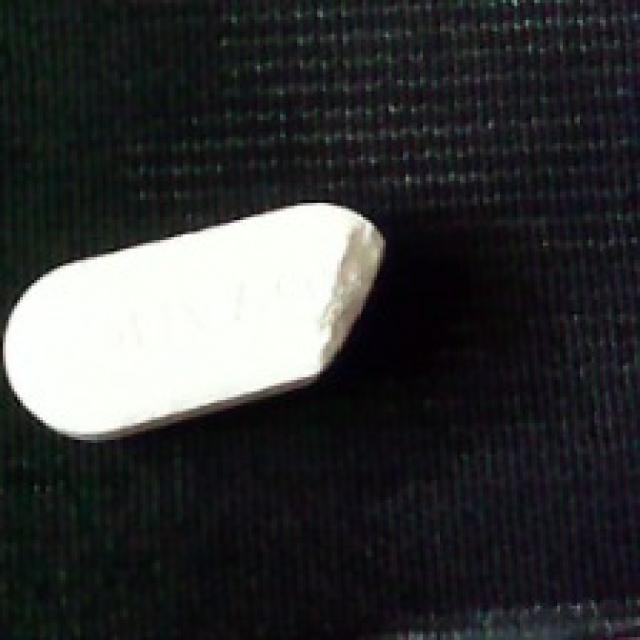defected: (0, 198, 389, 440)
